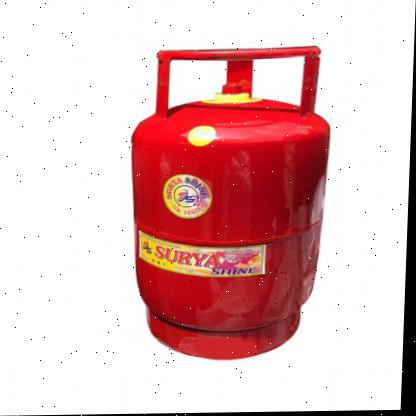gas-tank: (109, 36, 350, 365)
